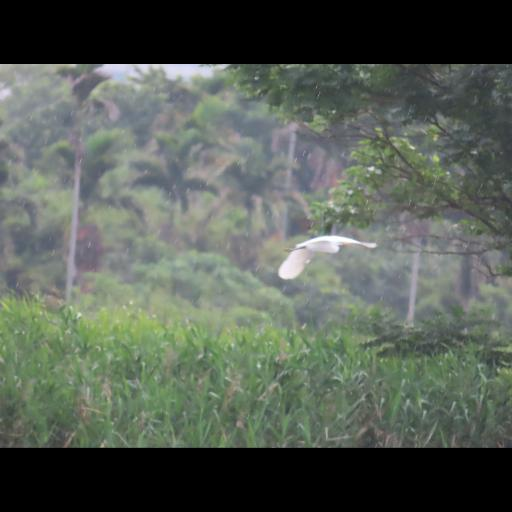chinese_egret: (278, 236, 378, 280)
